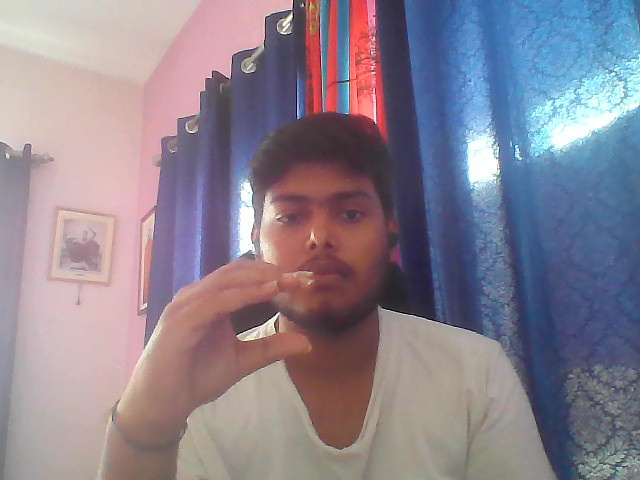No: (134, 254, 323, 420)
